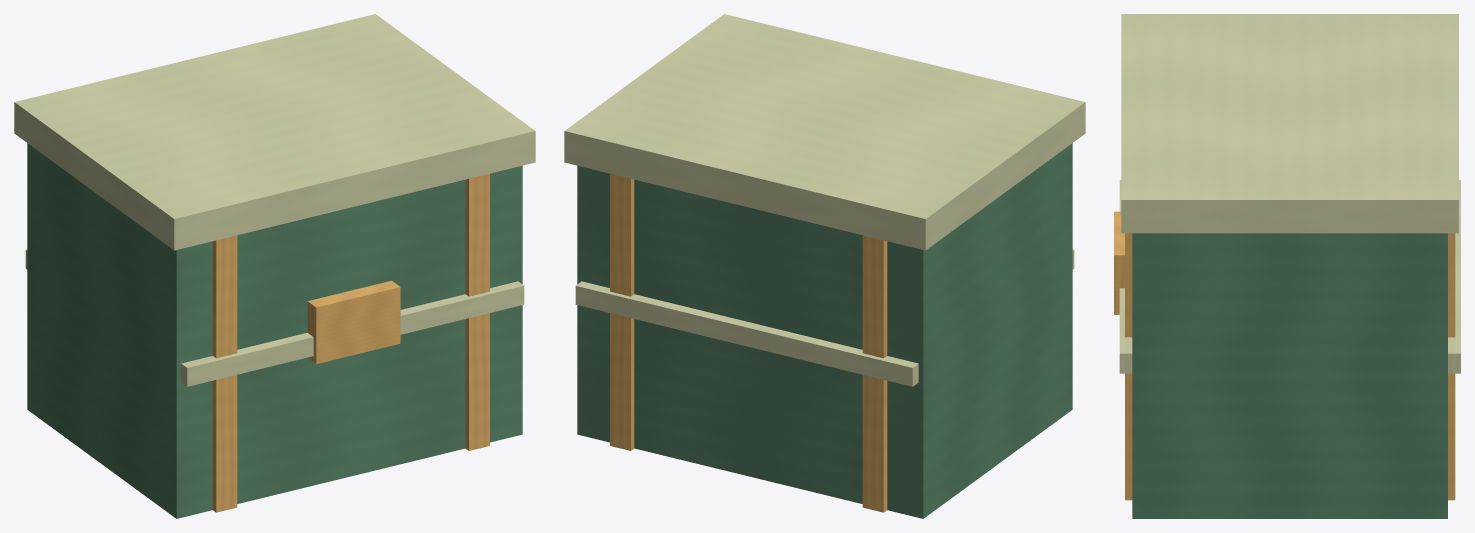
Rendered from atlas100-solarpunk-util02.glb.
The picture shows the model from 3 angles, left to right: view 1: azimuth 30°, elevation 25°; view 2: azimuth 150°, elevation 25°; view 3: azimuth 270°, elevation 25°; orthographic projection. The views are drawn at different scales.
Visible parts, largest first — view 1: atlas100-solarpunk-util02:part-000, atlas100-solarpunk-util02:part-005, atlas100-solarpunk-util02:part-001, atlas100-solarpunk-util02:part-004, atlas100-solarpunk-util02:part-002, atlas100-solarpunk-util02:part-006; view 2: atlas100-solarpunk-util02:part-000, atlas100-solarpunk-util02:part-005, atlas100-solarpunk-util02:part-003, atlas100-solarpunk-util02:part-001, atlas100-solarpunk-util02:part-002; view 3: atlas100-solarpunk-util02:part-000, atlas100-solarpunk-util02:part-005, atlas100-solarpunk-util02:part-002, atlas100-solarpunk-util02:part-003, atlas100-solarpunk-util02:part-006, atlas100-solarpunk-util02:part-004.
Part boxes in pixels (<box>): atlas100-solarpunk-util02:part-000: <box>27,143,522,518</box>; atlas100-solarpunk-util02:part-005: <box>14,14,535,250</box>; atlas100-solarpunk-util02:part-001: <box>212,235,237,512</box>; atlas100-solarpunk-util02:part-004: <box>181,281,524,386</box>; atlas100-solarpunk-util02:part-002: <box>465,173,489,450</box>; atlas100-solarpunk-util02:part-006: <box>307,280,400,364</box>; atlas100-solarpunk-util02:part-000: <box>577,143,1072,518</box>; atlas100-solarpunk-util02:part-005: <box>564,14,1085,250</box>; atlas100-solarpunk-util02:part-003: <box>575,281,918,386</box>; atlas100-solarpunk-util02:part-001: <box>862,235,887,512</box>; atlas100-solarpunk-util02:part-002: <box>610,173,634,450</box>; atlas100-solarpunk-util02:part-000: <box>1132,233,1447,518</box>; atlas100-solarpunk-util02:part-005: <box>1121,14,1458,233</box>; atlas100-solarpunk-util02:part-002: <box>1125,233,1455,500</box>; atlas100-solarpunk-util02:part-003: <box>1448,180,1460,373</box>; atlas100-solarpunk-util02:part-006: <box>1114,211,1124,314</box>; atlas100-solarpunk-util02:part-004: <box>1119,180,1132,373</box>.
Bounding box in the file's own units: 1.23 × 0.9923 × 0.9667.
3 materials, 3 textured.
